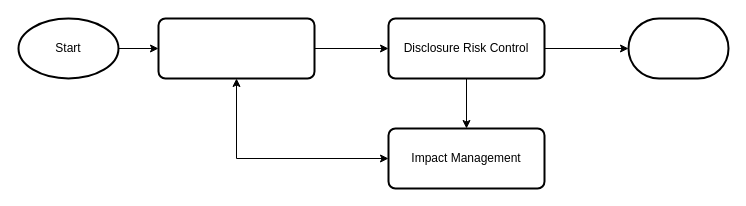
Some shapes in this 746 by 206 pixel diagram are drawn without their labels. The shapes that lost their labels are listed below. From the top down, each one's box as (x1, y1, x2, y2) in pixels, then its label:
(157, 17, 315, 79): Data Situation Analysis
(627, 17, 729, 79): End
